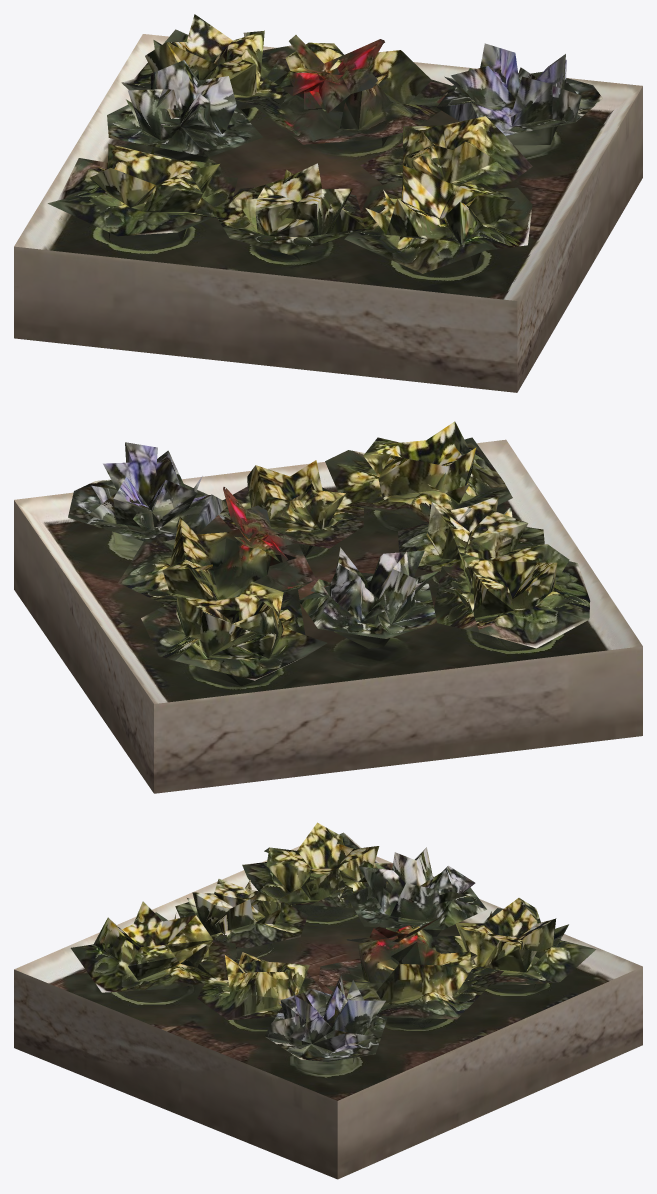
The model's file is act1_kit_v1_garth_flower_bed.glb.
The picture shows the model from 3 angles, top to bottom: view 1: azimuth 30°, elevation 25°; view 2: azimuth 150°, elevation 25°; view 3: azimuth 270°, elevation 25°; orthographic projection. The views are drawn at different scales.
Visible parts, largest first — view 1: A23_3_garth_flower_bed; view 2: A23_3_garth_flower_bed; view 3: A23_3_garth_flower_bed.
Boxes of the visible parts, x1=… form: A23_3_garth_flower_bed: x1=14, y1=14, x2=642, y2=392; A23_3_garth_flower_bed: x1=14, y1=421, x2=642, y2=793; A23_3_garth_flower_bed: x1=14, y1=822, x2=642, y2=1179.
Bounding box in the file's own units: 1 × 0.2689 × 1.
Materials: 1 (1 with a texture image).
